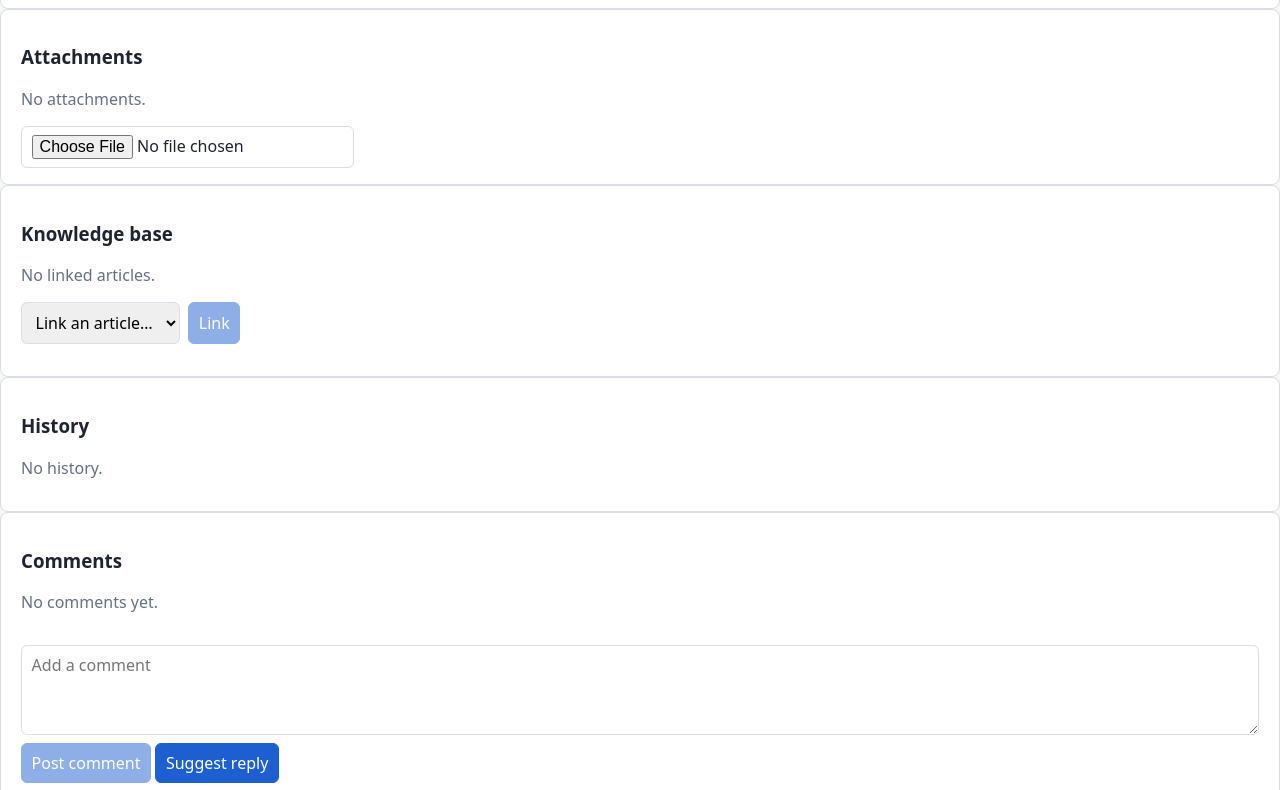
Test: suggested reply › shows an error when the draft fails
(page scrolled)
Click the button "Suggest reply": click(217, 763) [155,743,279,783]
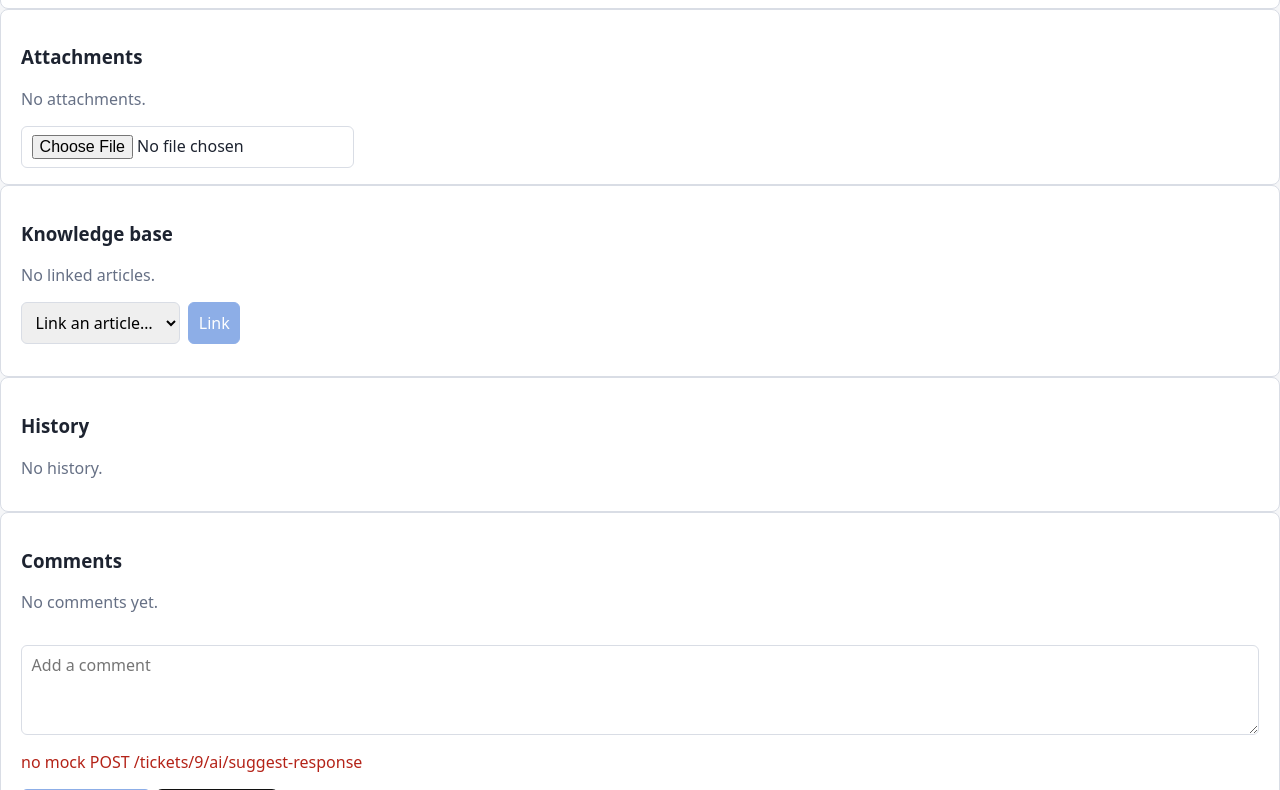
Now the text "no mock POST /tickets/9/ai/suggest-response" is shown, box [21,751,362,773]
